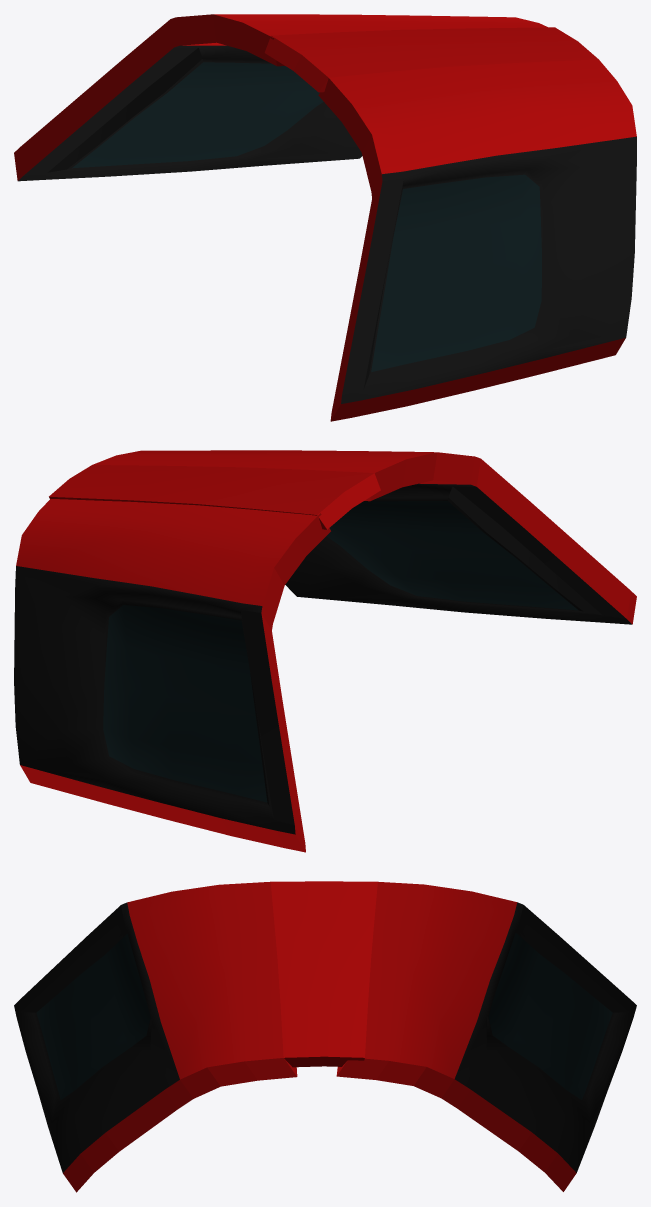
File: boat_part5.FBX
3 renders of one model, top to bottom at view 1: azimuth 30°, elevation 25°; view 2: azimuth 150°, elevation 25°; view 3: azimuth 270°, elevation 25°, orthographic. The views are drawn at different scales.
Visible parts, largest first — view 1: transform_hovercraft_RIG:hover045; view 2: transform_hovercraft_RIG:hover045; view 3: transform_hovercraft_RIG:hover045.
Boxes of the visible parts, x1,y1,x2,y2 form: transform_hovercraft_RIG:hover045: [14, 14, 636, 421]; transform_hovercraft_RIG:hover045: [14, 450, 636, 852]; transform_hovercraft_RIG:hover045: [14, 881, 636, 1192].
Bounding box in the file's own units: 30.68 × 17.78 × 43.75.
